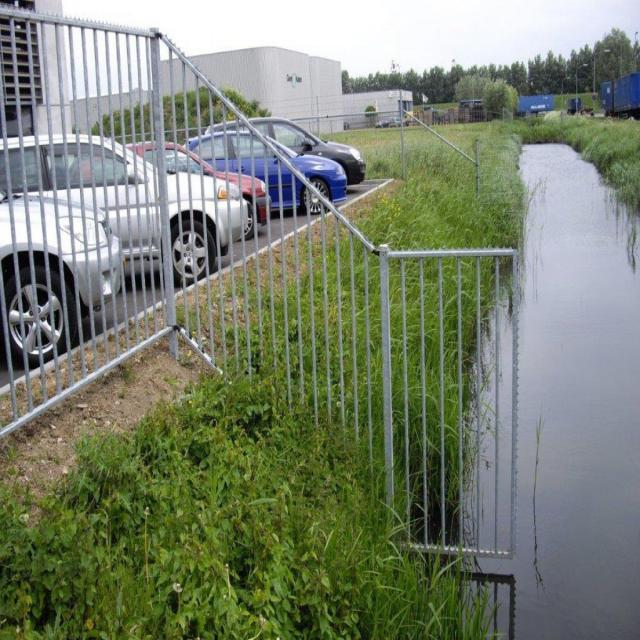fence line: (125, 85, 384, 547), (2, 5, 170, 385), (354, 241, 516, 569), (343, 110, 528, 216)
